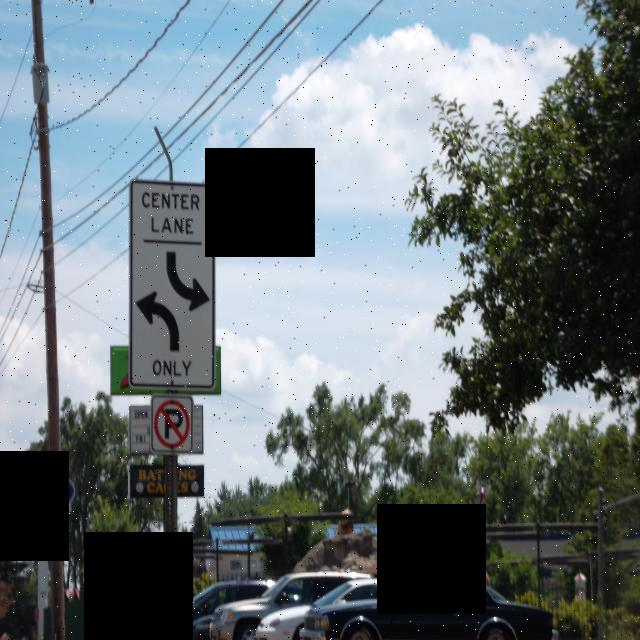regulatory: (127, 180, 218, 391), (150, 393, 194, 454)
